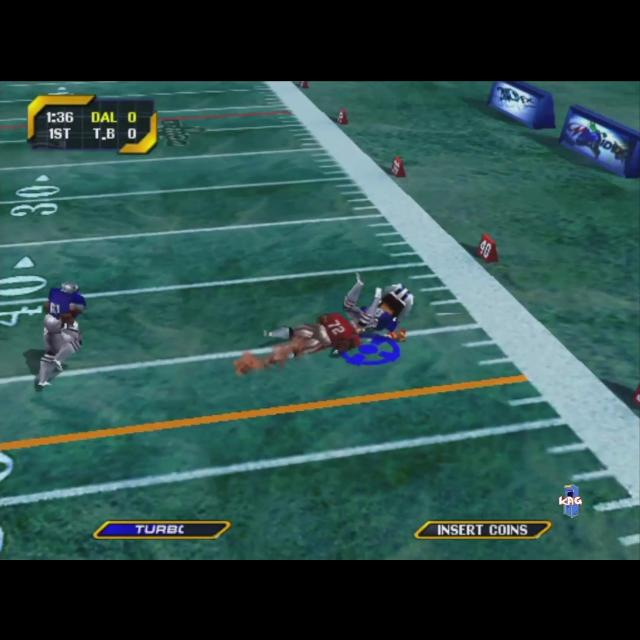player: (233, 311, 363, 375), (36, 279, 86, 386), (344, 272, 414, 342)
